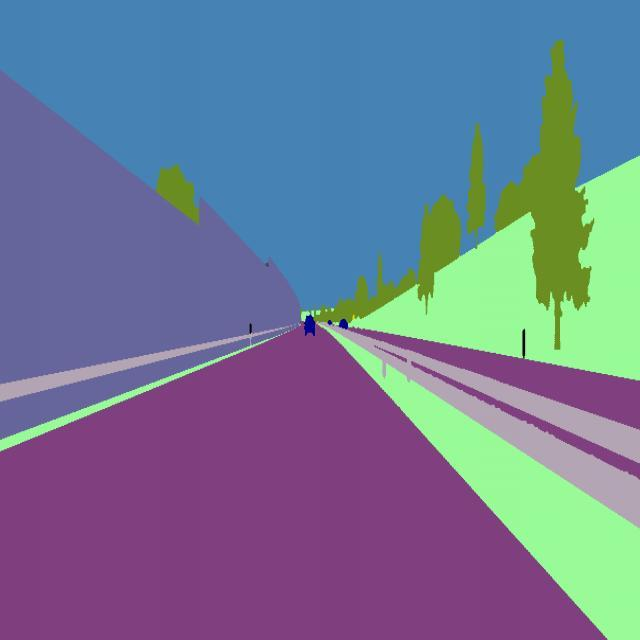safe: (301, 312, 318, 340), (336, 317, 349, 331)
